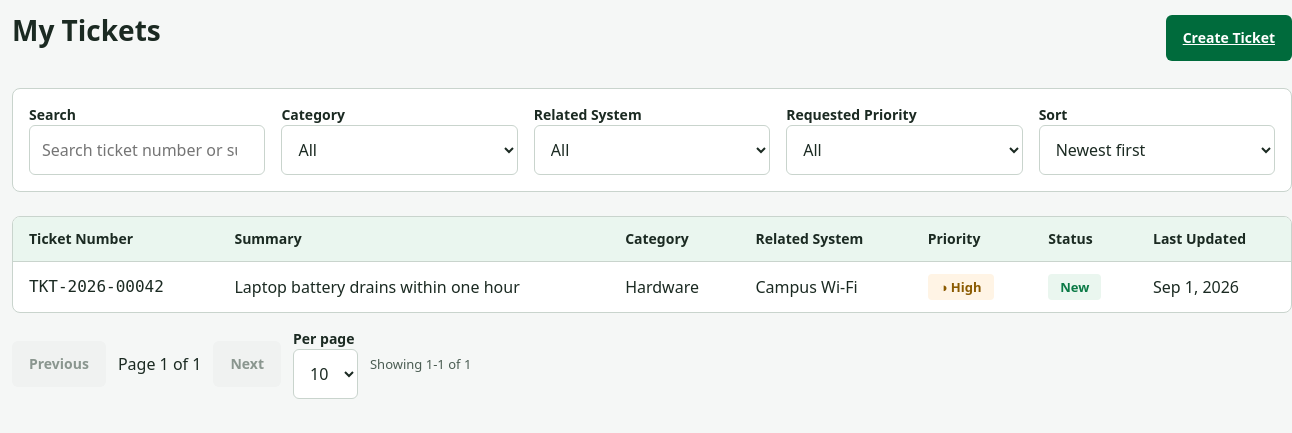
Test case: MyTickets (UI-25 - FR-21) › resets search, filters and sort to their defaults and refetches
Expected: the row with test id "ticket-row-TKT-2026-00042" is shown, [13,261,1291,312]
Select "Hardware" in the dropdown with test id "filter-category". click: (400, 150)
box: [281,125,518,175]
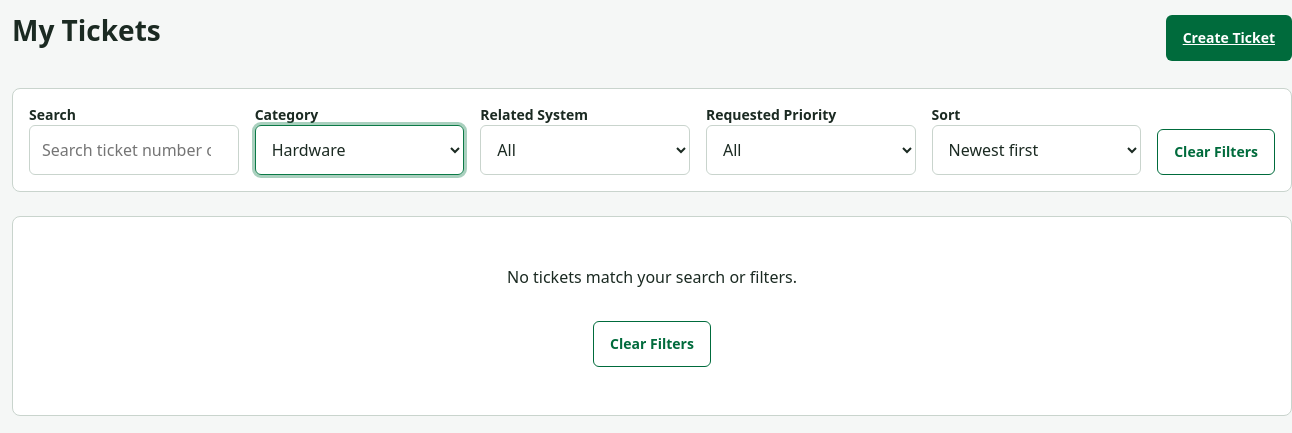
Select "Oldest first" in the dropdown with test id "field-sort". click: (1036, 150)
box: [932,125,1141,175]
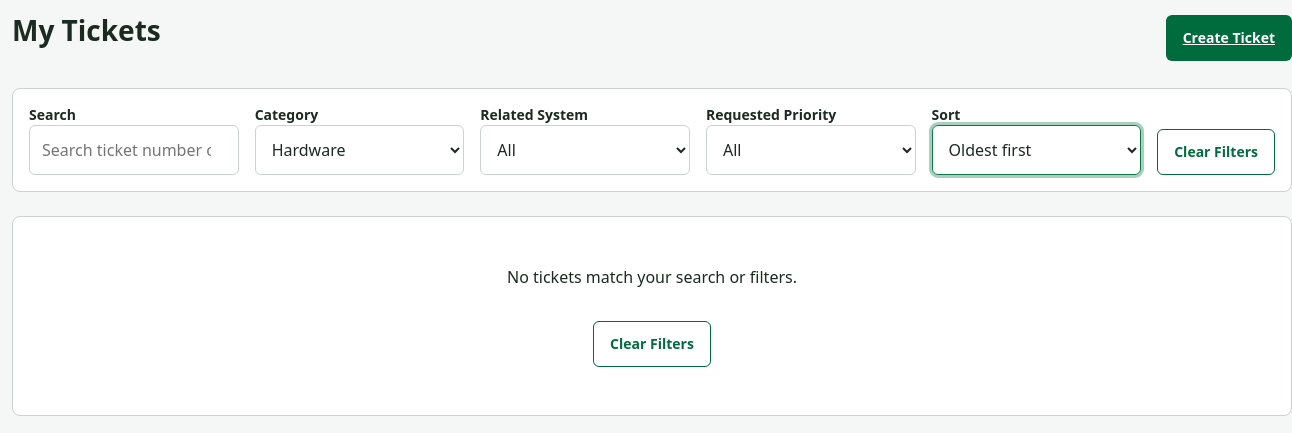
Type "battery" into the search field with test id "field-search". click: (134, 150)
box: [29,125,239,175]
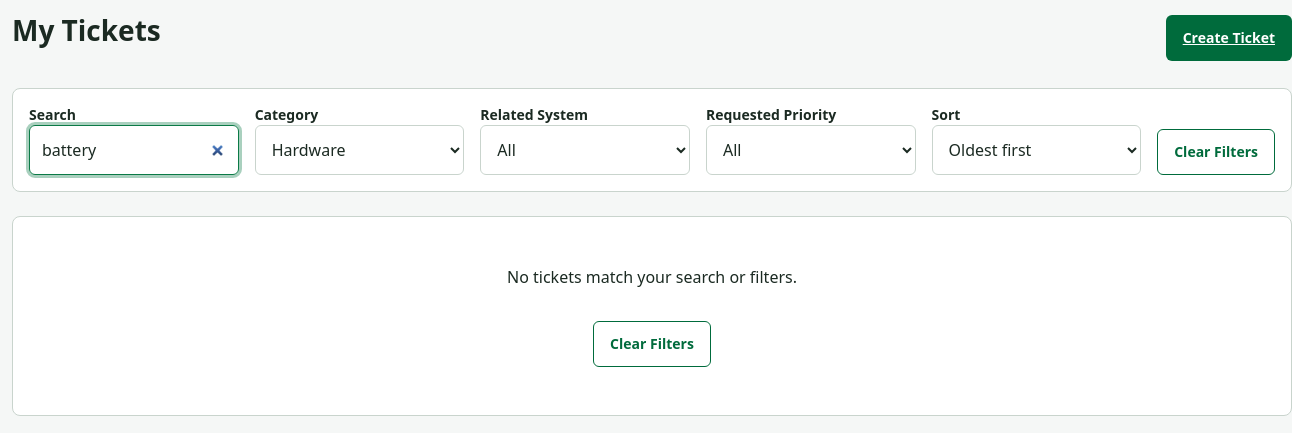
Expected: the element with test id "state-no-results" is shown, [12,216,1291,416]
Click the button with test id "btn-clear-filters". click: (1216, 152)
box: [1157,129,1275,175]
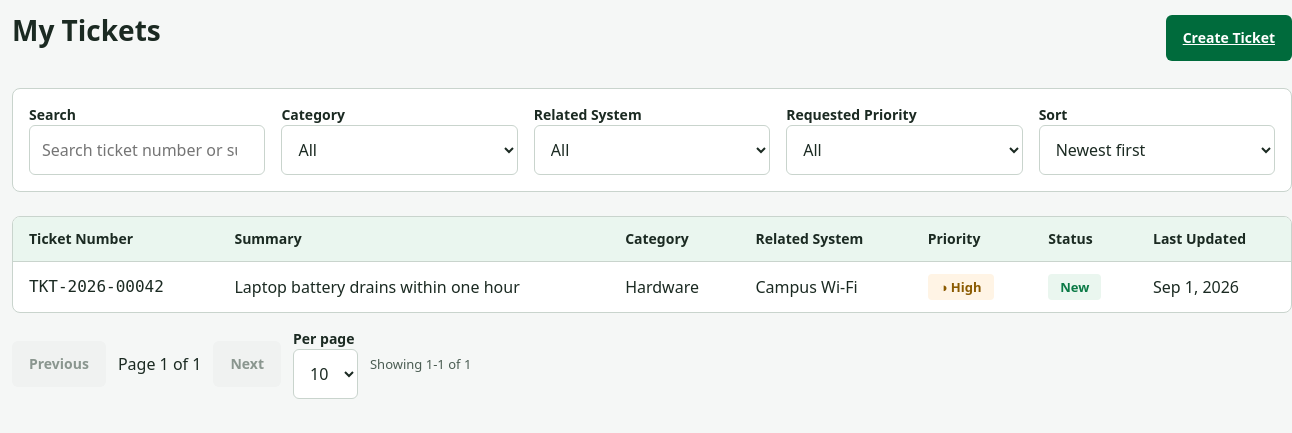
Expected: the search field with test id "field-search" is empty, [29,125,265,175]
